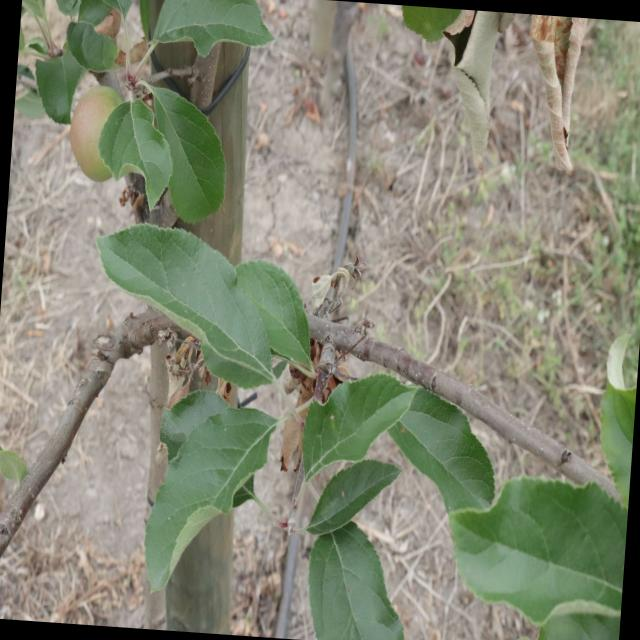-FireBlight-: (283, 323, 348, 472), (137, 321, 217, 398)
